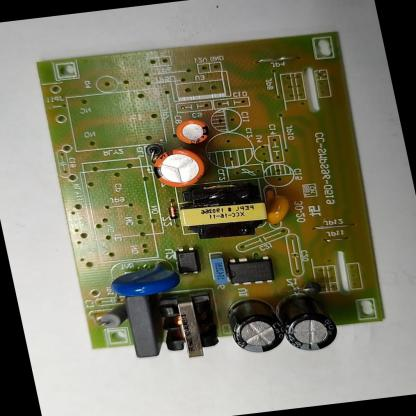Cap1: (149, 144, 209, 190)
Cap2: (172, 116, 214, 146)
Cap3: (224, 293, 288, 357)
Cap4: (278, 290, 340, 354)
MOSFET: (224, 252, 277, 287)
Mov: (105, 258, 182, 300)
Resistor: (95, 302, 130, 331)
Transformer: (174, 179, 270, 242), (153, 291, 224, 362)
